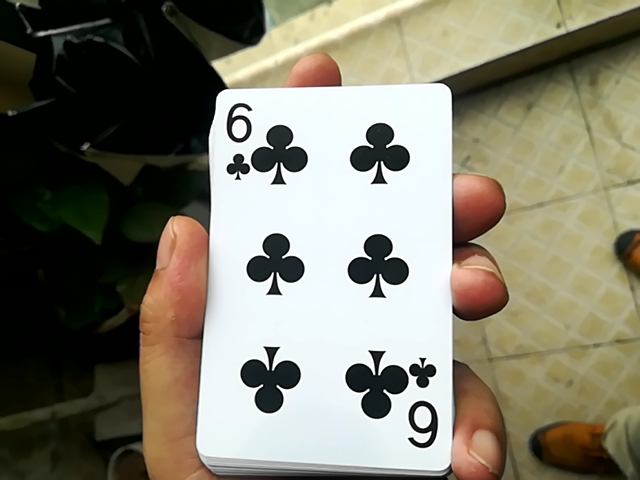mh 6: (186, 81, 459, 471)
